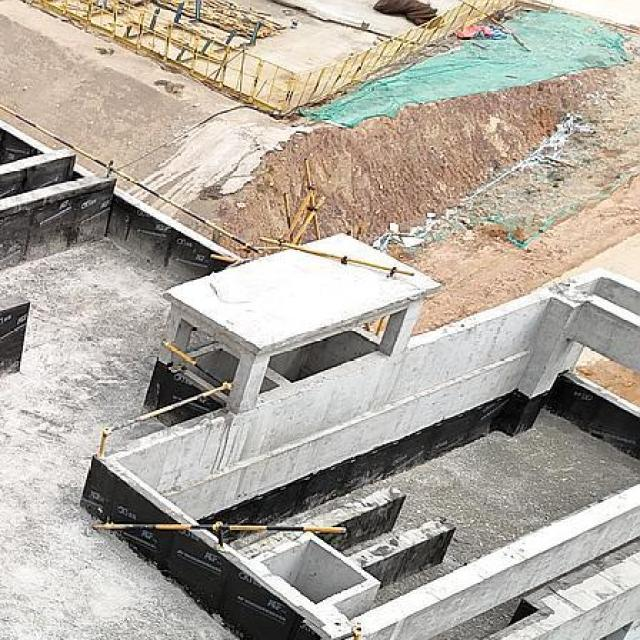edge_guardrail: (0, 101, 263, 256), (99, 338, 235, 456), (257, 235, 416, 279), (91, 521, 346, 548)
